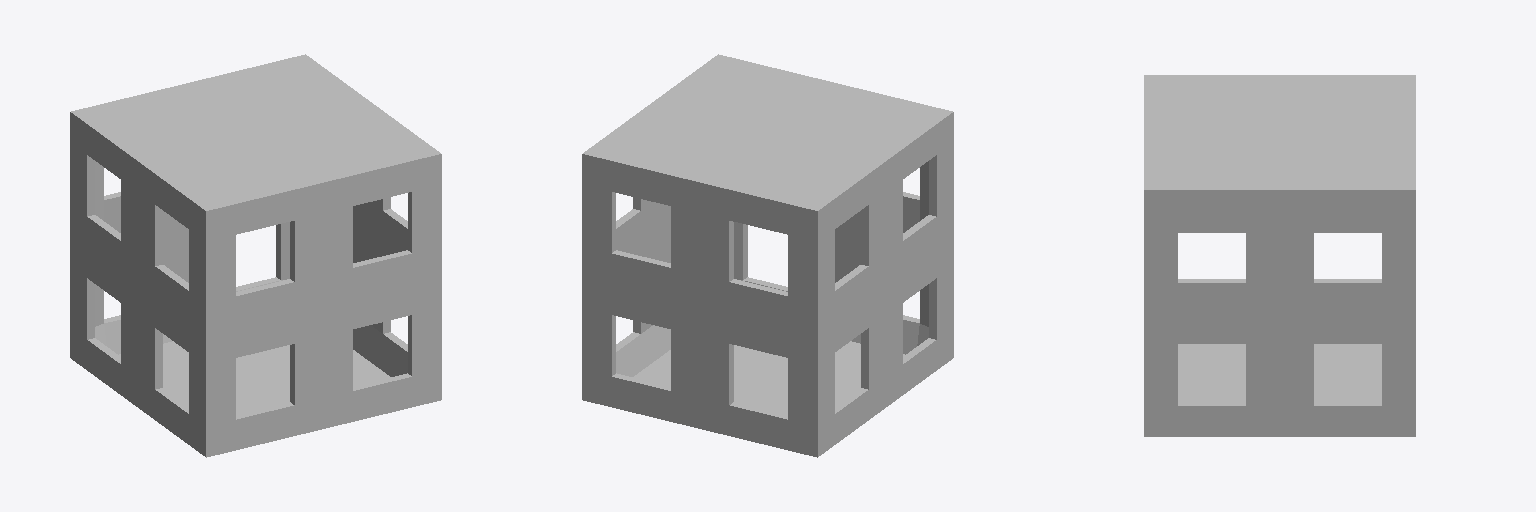
The model's file is window.obj.
The picture shows the model from 3 angles: view 1: azimuth 30°, elevation 25°; view 2: azimuth 150°, elevation 25°; view 3: azimuth 270°, elevation 25°; orthographic projection.
Visible parts, largest first — view 1: te.003_立方体.008, te.001_立方体.006, 立方体_立方体.009, te_立方体.004, 立方体.001_立方体.010, te.002_立方体.007; view 2: te.002_立方体.007, te.001_立方体.006, 立方体_立方体.009, te_立方体.004, 立方体.001_立方体.010, te.003_立方体.008; view 3: te_立方体.004, 立方体_立方体.009, 立方体.001_立方体.010, te.002_立方体.007, te.001_立方体.006, te.003_立方体.008.
Part boxes in pixels (x1,y1,x2,y2): te.003_立方体.008: (194, 149, 441, 456); te.001_立方体.006: (70, 107, 225, 457); 立方体_立方体.009: (74, 59, 440, 209); te_立方体.004: (287, 54, 441, 402); 立方体.001_立方体.010: (119, 341, 390, 414); te.002_立方体.007: (80, 60, 315, 354); te.002_立方体.007: (582, 145, 827, 457); te.001_立方体.006: (797, 107, 953, 456); 立方体_立方体.009: (584, 57, 952, 209); te_立方体.004: (582, 54, 738, 397); 立方体.001_立方体.010: (633, 341, 904, 414); te.003_立方体.008: (733, 62, 953, 354); te_立方体.004: (1144, 180, 1415, 436); 立方体_立方体.009: (1144, 75, 1415, 189); 立方体.001_立方体.010: (1178, 344, 1381, 401); te.002_立方体.007: (1392, 75, 1415, 436); te.001_立方体.006: (1144, 75, 1415, 232); te.003_立方体.008: (1144, 75, 1165, 436).
Bounding box in the file's own units: 60 × 60 × 60.